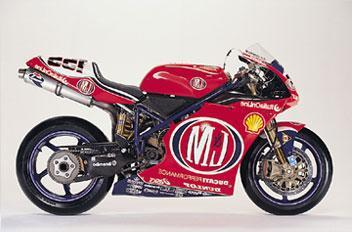motorcycle: (11, 32, 344, 225)
